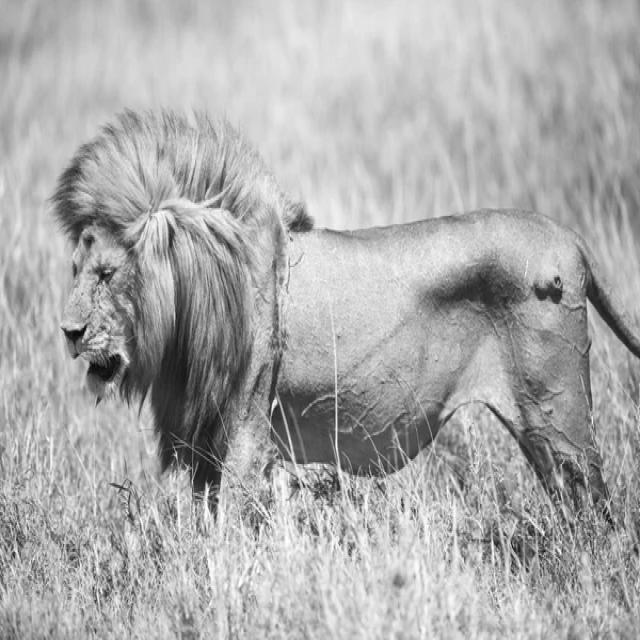Animal: (52, 112, 640, 506)
